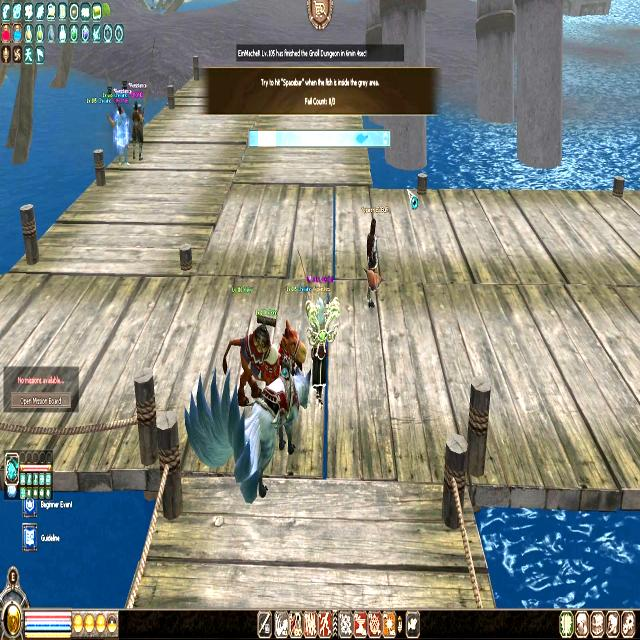box: (258, 132, 276, 146)
fishes: (355, 132, 368, 144)
